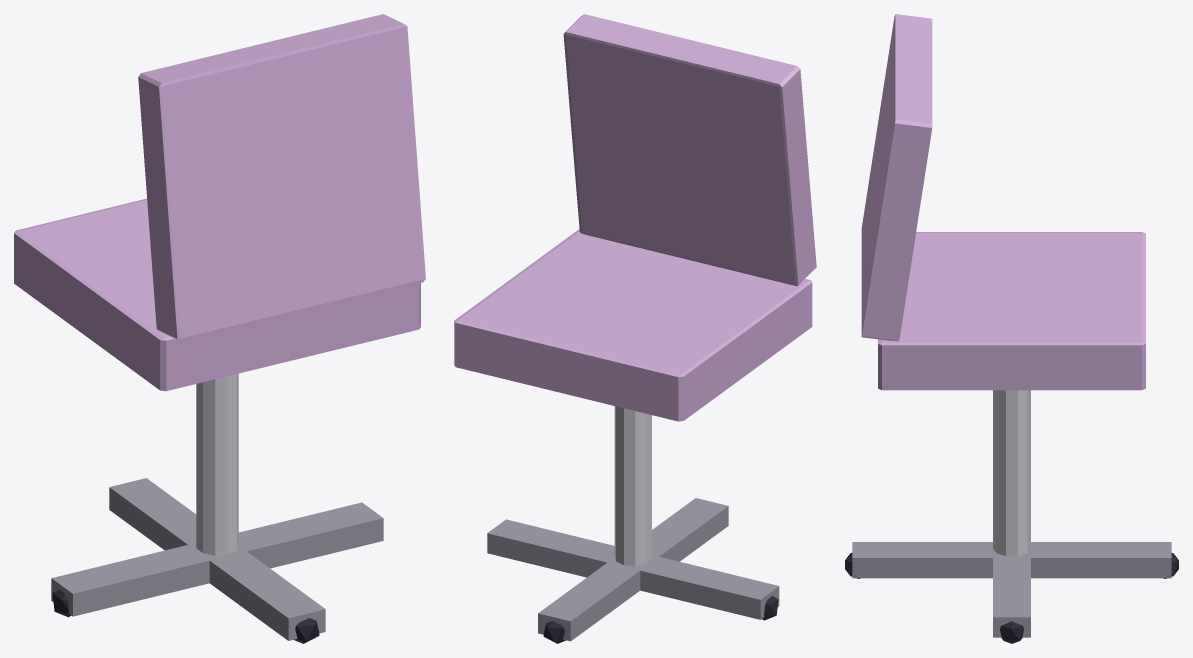
File: deco_sediaufficio_01.glb
3 renders of one model, left to right at view 1: azimuth 30°, elevation 25°; view 2: azimuth 150°, elevation 25°; view 3: azimuth 270°, elevation 25°, orthographic. The views are drawn at different scales.
Visible parts, largest first — view 1: deco_sediaufficio_01; view 2: deco_sediaufficio_01; view 3: deco_sediaufficio_01.
Boxes of the visible parts, x1=… form: deco_sediaufficio_01: x1=14, y1=14, x2=425, y2=643; deco_sediaufficio_01: x1=454, y1=14, x2=816, y2=643; deco_sediaufficio_01: x1=845, y1=14, x2=1178, y2=643.
Bounding box in the file's own units: 0.5247 × 0.8852 × 0.5225.
